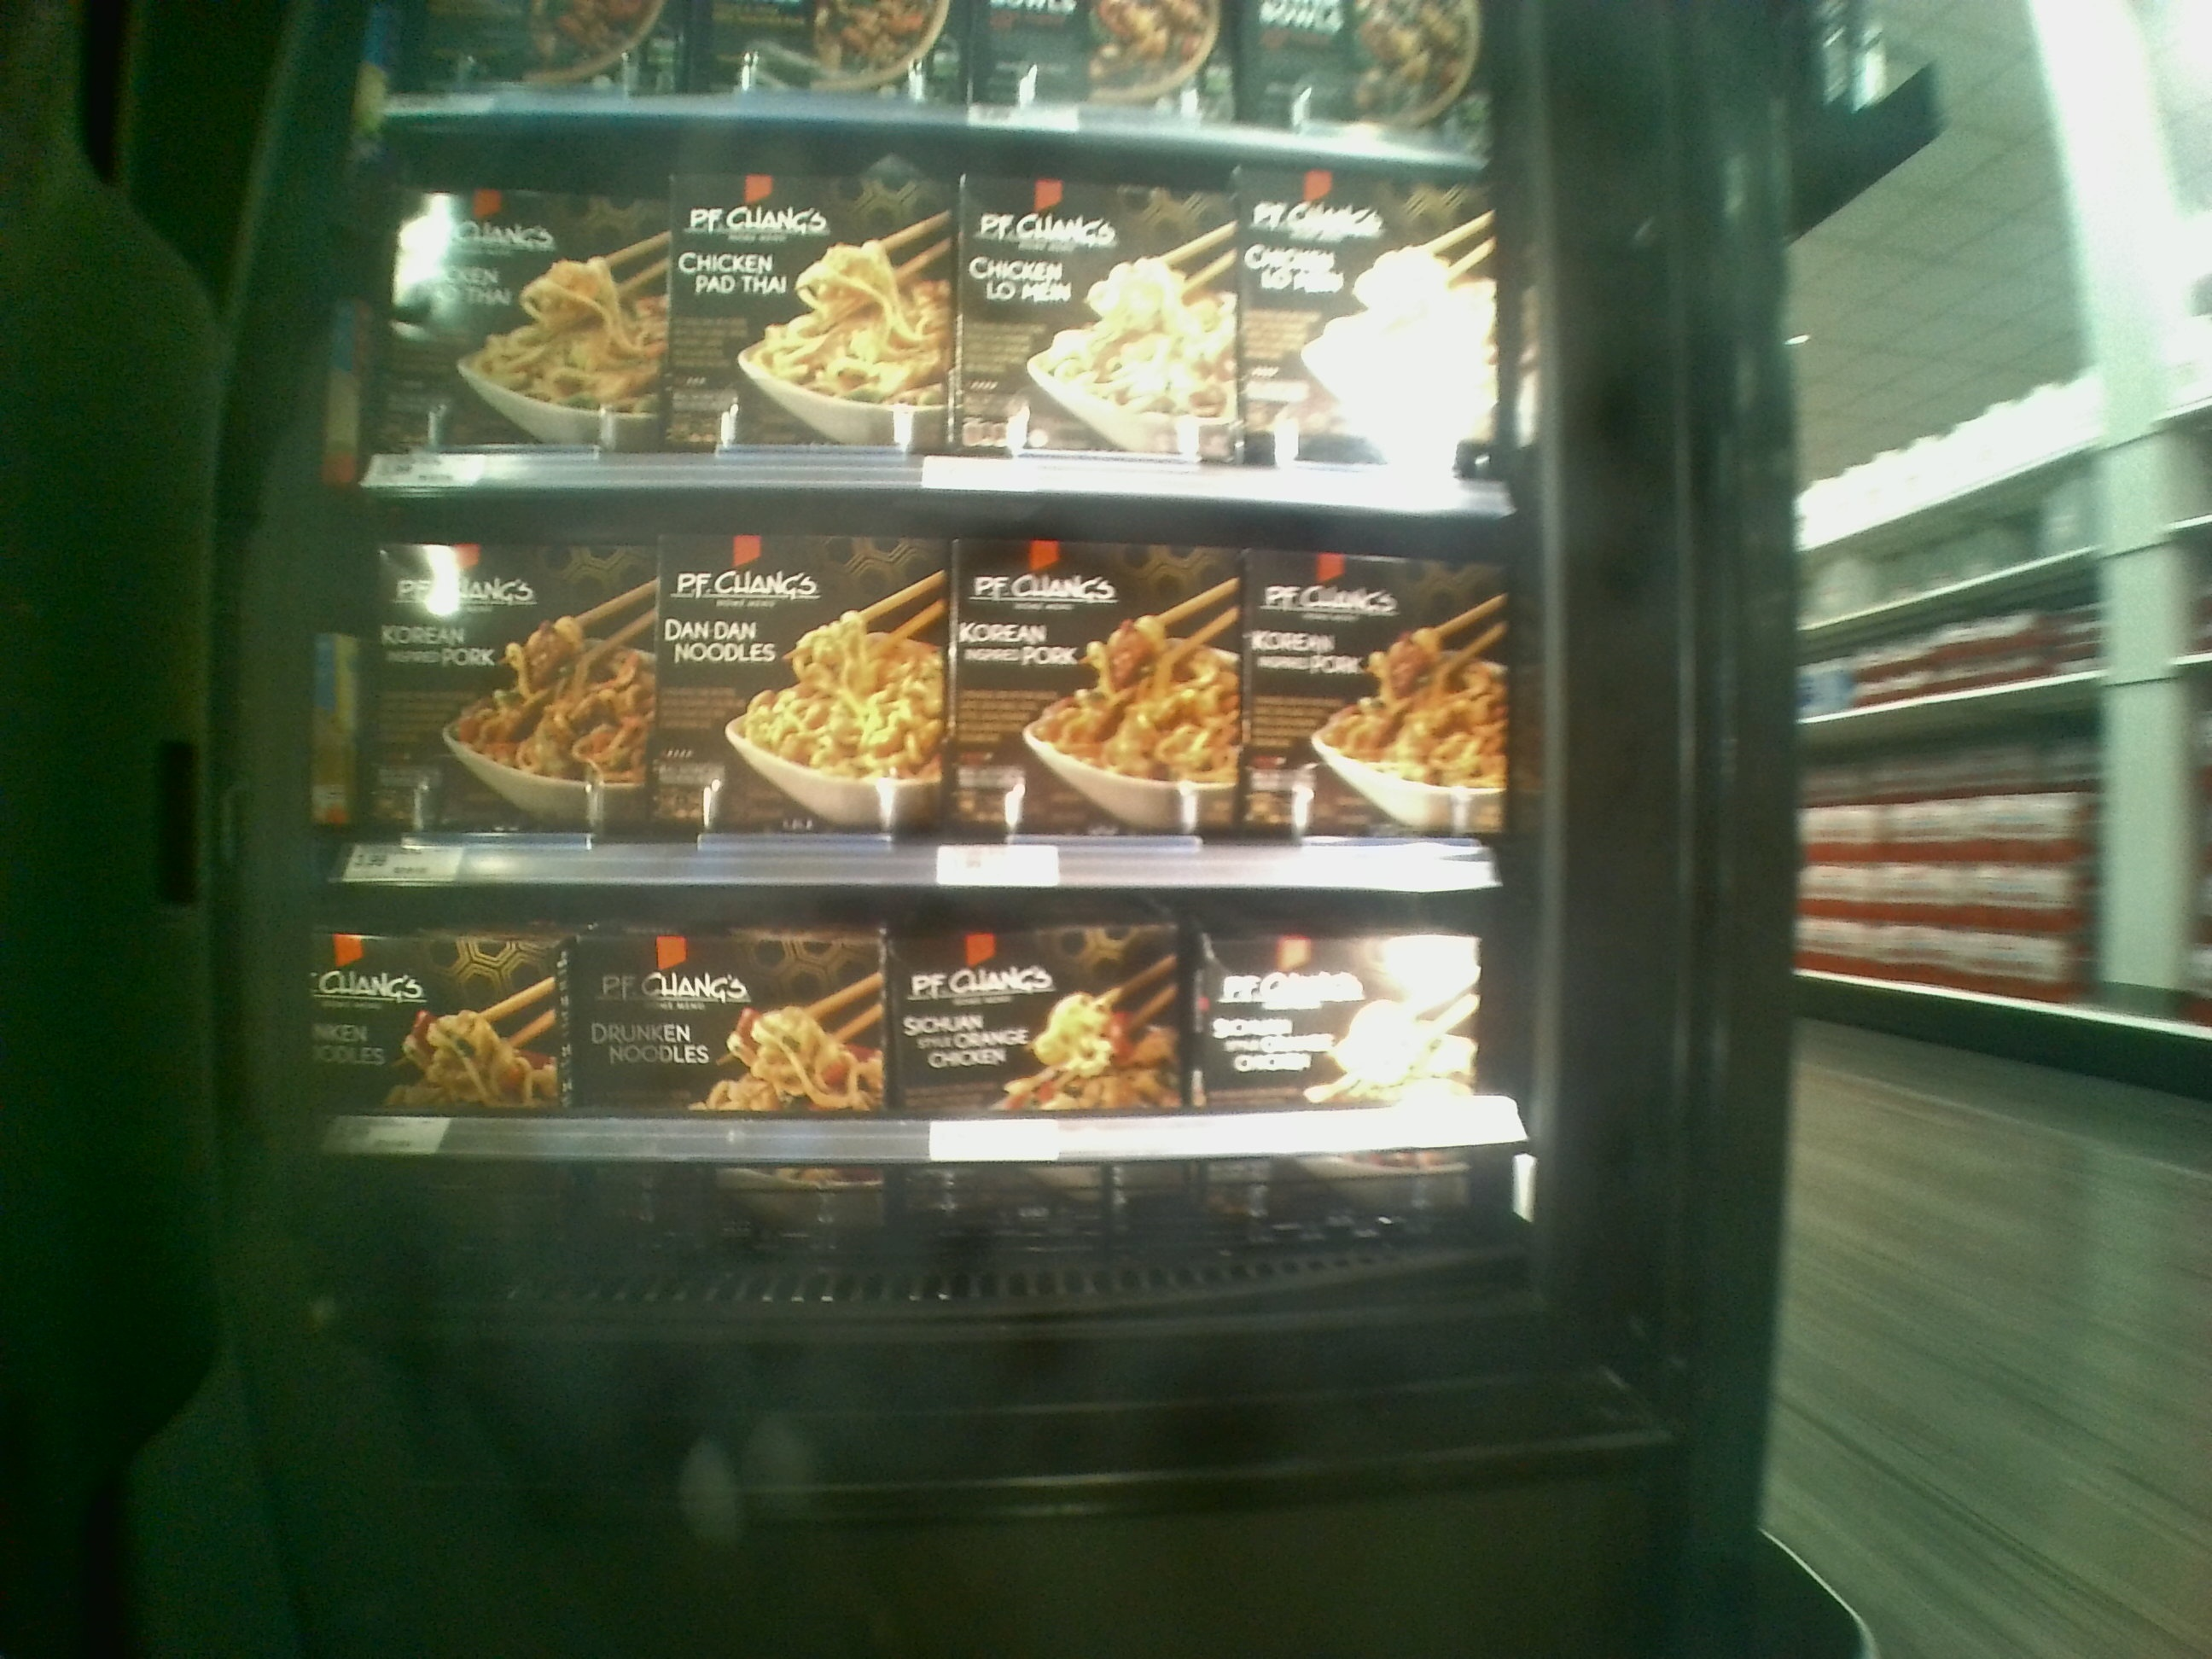shelf: (320, 868, 1534, 1303), (338, 477, 1521, 908), (373, 118, 1522, 507)
